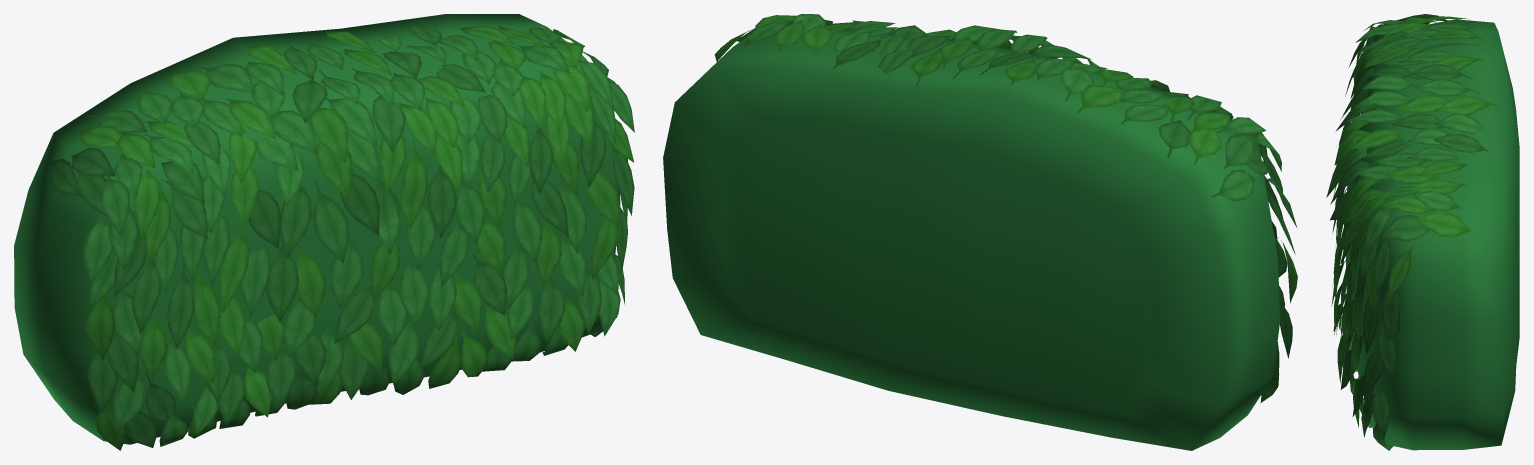
Rendered from ArbustoGrande.fbx.
The picture shows the model from 3 angles, left to right: view 1: azimuth 30°, elevation 25°; view 2: azimuth 150°, elevation 25°; view 3: azimuth 270°, elevation 25°; orthographic projection. The views are drawn at different scales.
Visible parts, largest first — view 1: ArbustoGrande; view 2: ArbustoGrande; view 3: ArbustoGrande.
Part boxes in pixels (x1,y1,x2,y2): ArbustoGrande: (14,14,634,450); ArbustoGrande: (663,14,1297,450); ArbustoGrande: (1326,14,1519,450).
Size of the model in its own units: 2270 by 1262 by 813.
